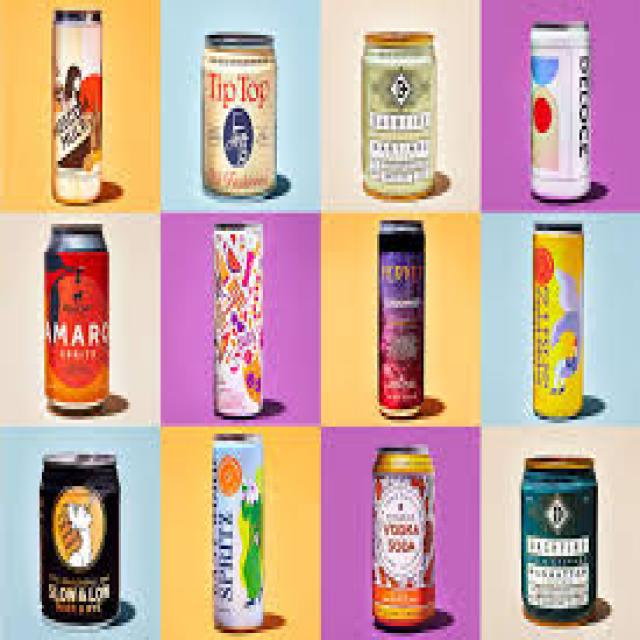Cans: (512, 444, 607, 630), (37, 444, 128, 637), (360, 434, 444, 633), (356, 18, 447, 200), (40, 217, 116, 420), (198, 24, 282, 200), (524, 18, 602, 200), (207, 430, 270, 640), (370, 214, 435, 416), (528, 216, 589, 426), (44, 3, 107, 206), (207, 217, 268, 420)
